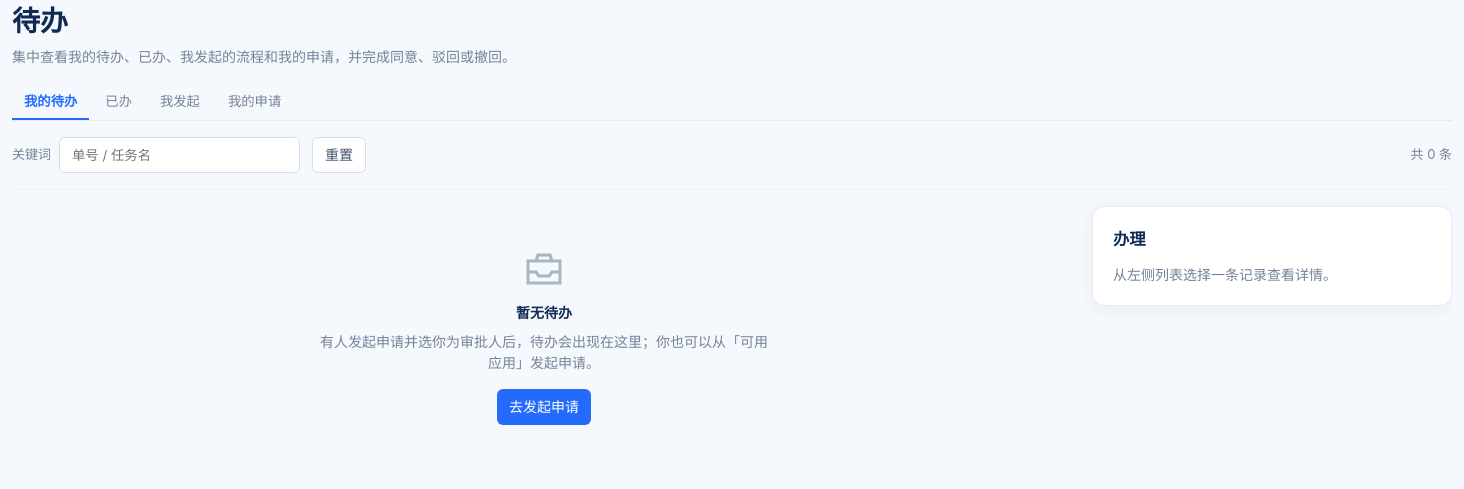
Test: todo comment and my requests › shows my request status and comment without a withdraw control
Check: the message with test id "todo-empty" shows "暂无待办", box [516,304,572,321]
Click the button "我的申请" at (255, 102), box [216,83,293,120]
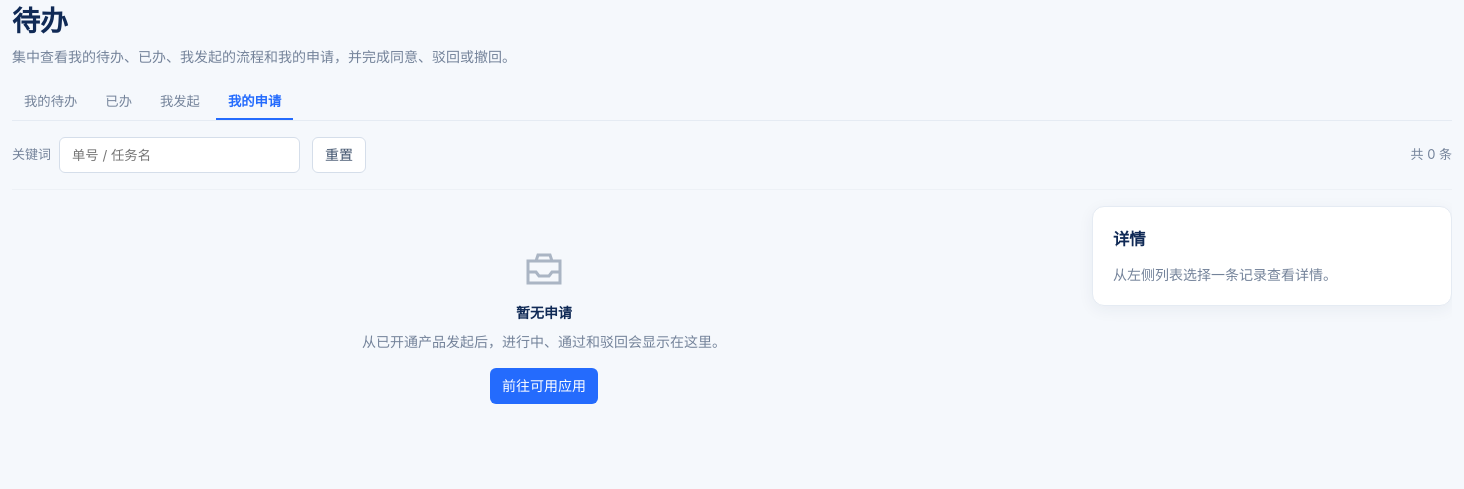
Check: the message with test id "todo-empty" shows "暂无申请", box [516,304,572,321]
Check: the text "从已开通产品发起后" is shown, box [362,333,726,350]
Click the button "我的申请" at (255, 102), box [216,83,293,120]
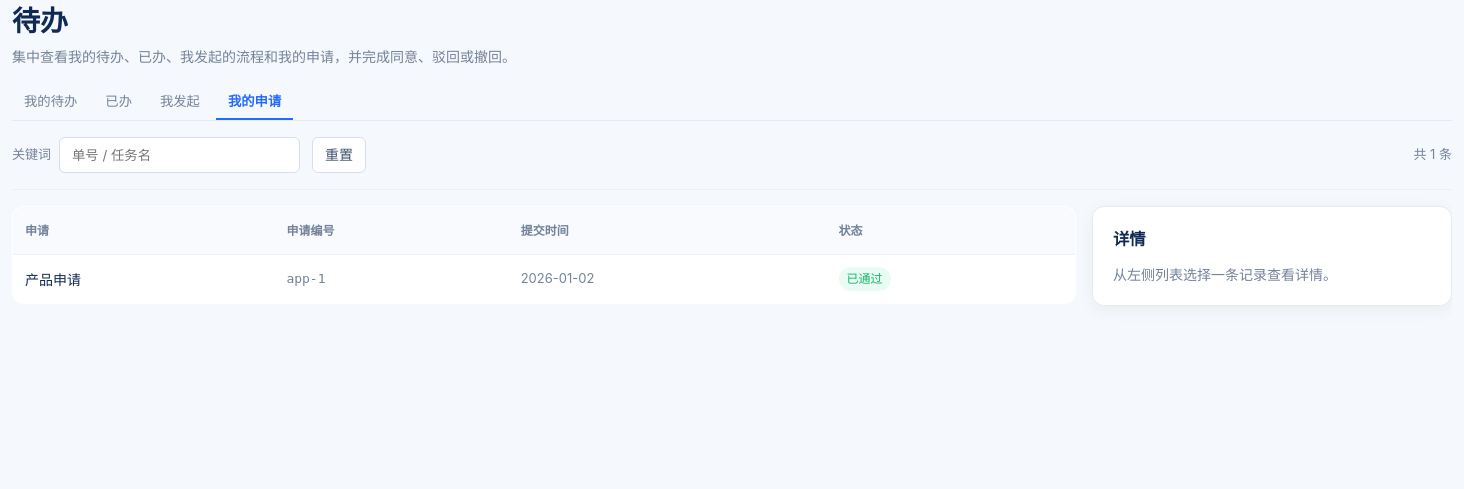
Check: the text "已通过" is shown, box [838,267,890,291]
Check: the element showing "申请 申请编号 提交时间 状态" is shown, box [12,206,1076,254]
Click the row "产品申请 app-1 2026-01-02 已通过" at (544, 279), box [12,254,1076,304]
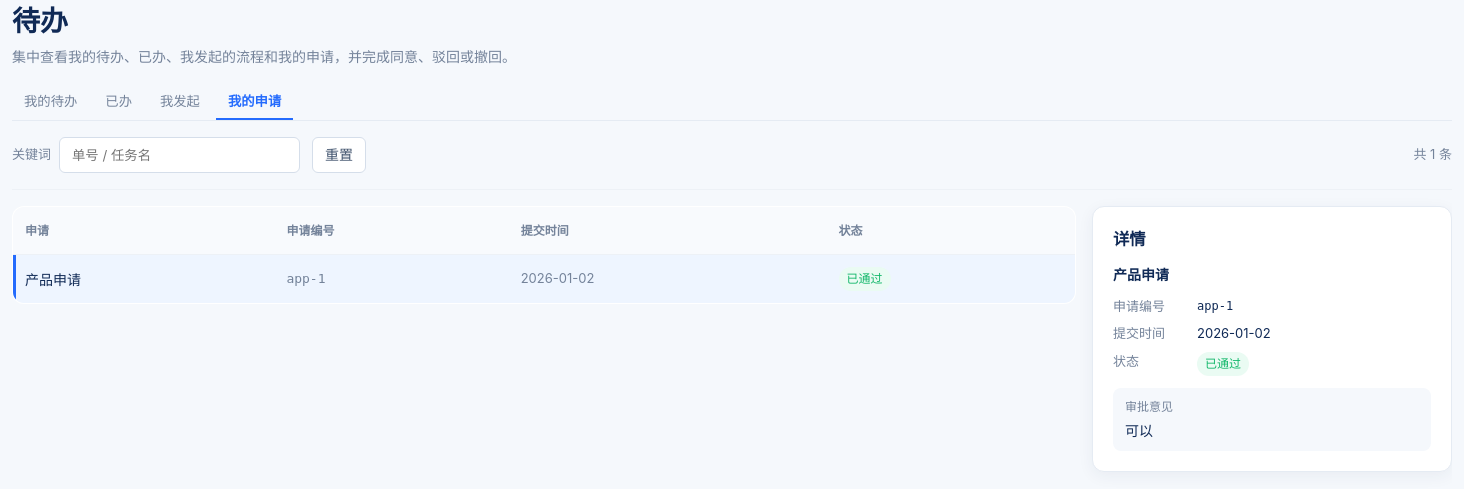
Check: the element with test id "application-comment" shows "审批意见", box [1125,399,1173,414]
Check: the element with test id "application-comment" shows "可以", box [1125,422,1153,439]
